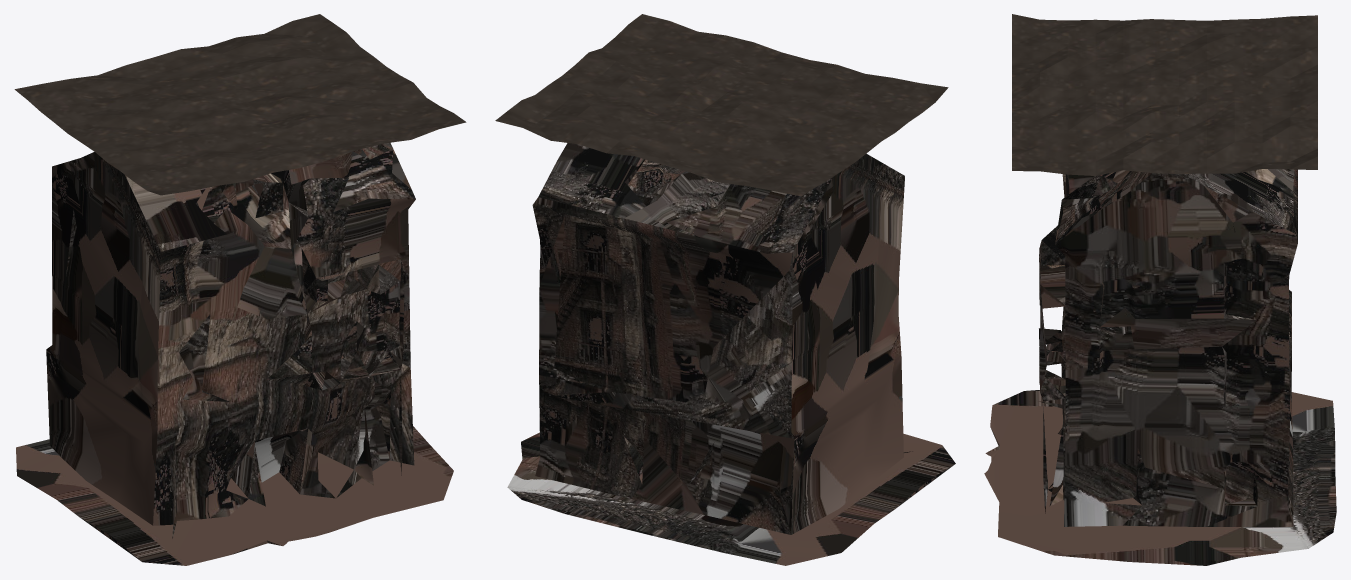
Rendered from ruin_burned.glb.
3 renders of one model, left to right at view 1: azimuth 30°, elevation 25°; view 2: azimuth 150°, elevation 25°; view 3: azimuth 270°, elevation 25°, orthographic. The views are drawn at different scales.
Bounding box in the file's own units: 1.92 × 1.92 × 1.59.
1 material, 1 textured.
